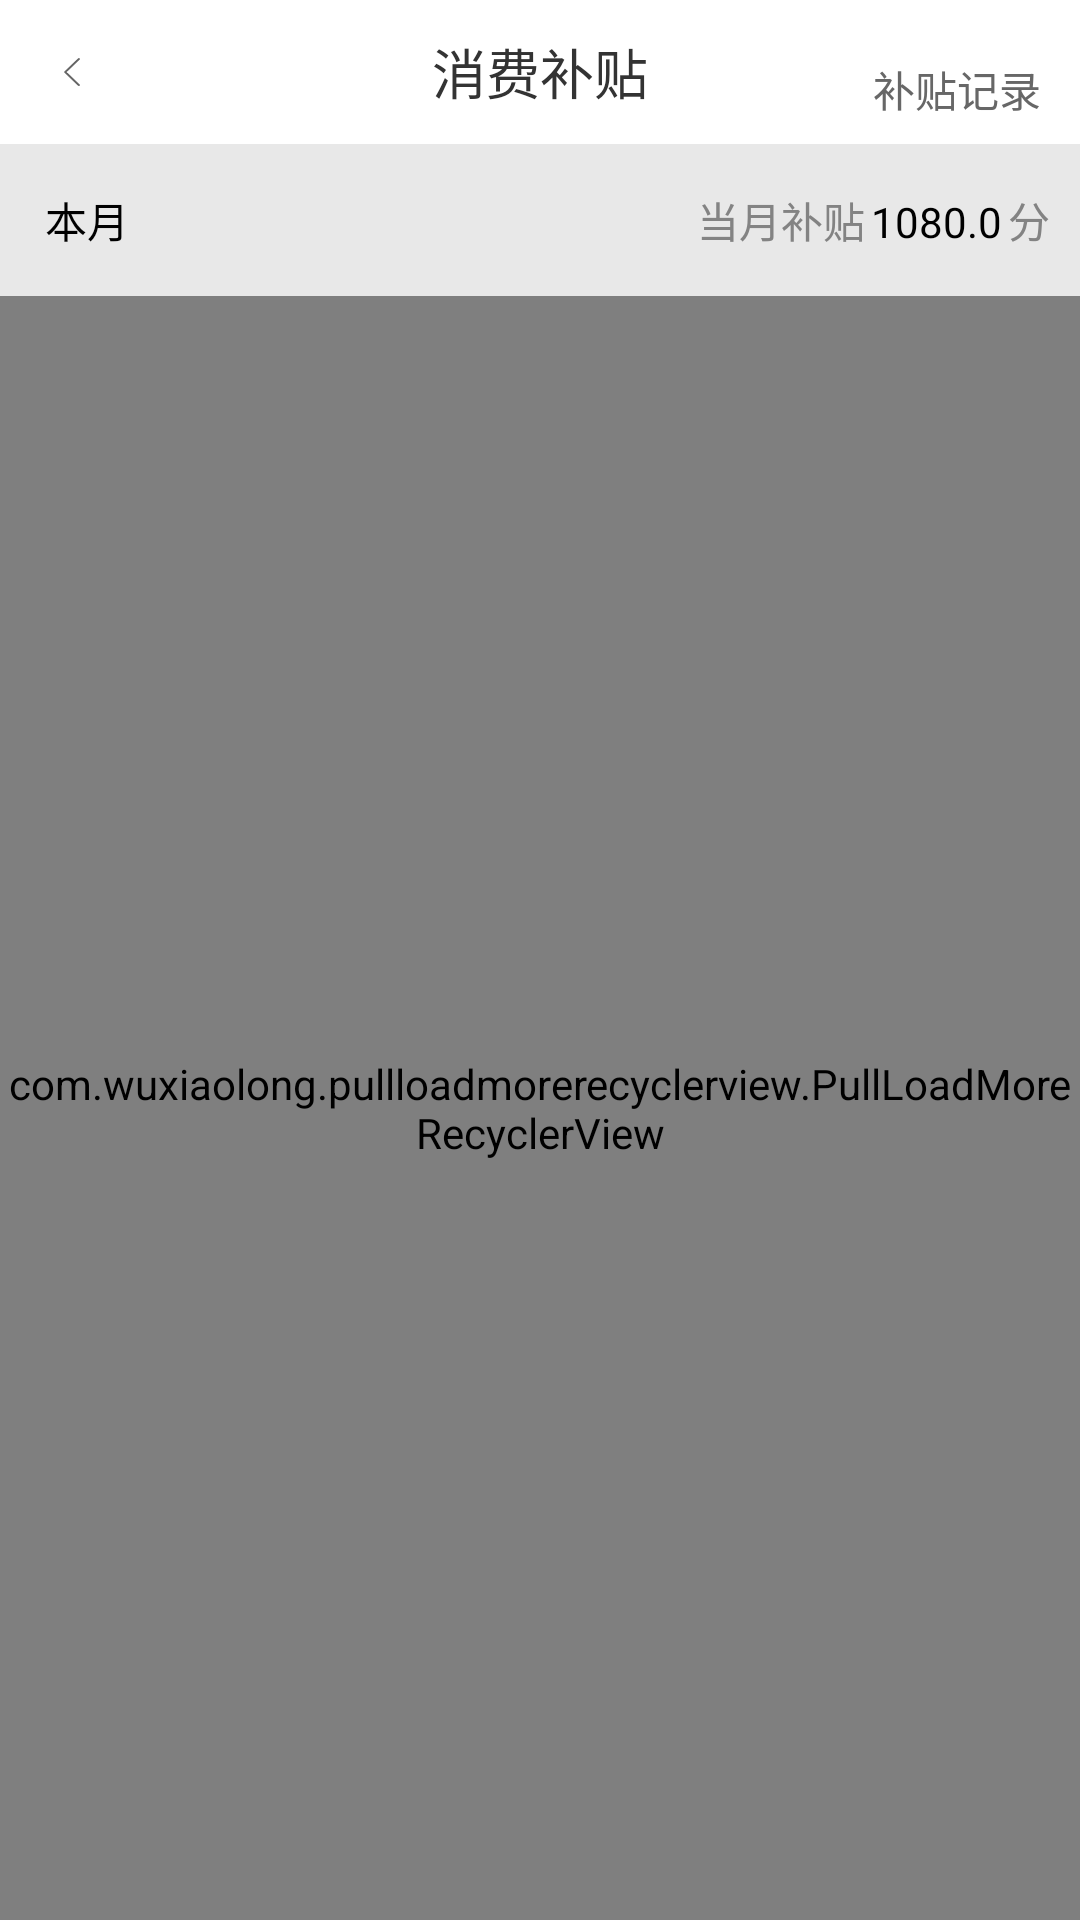

Named icons in this screenshot (1080×1920) and their centers, [x,y]:
back: [72,72]
